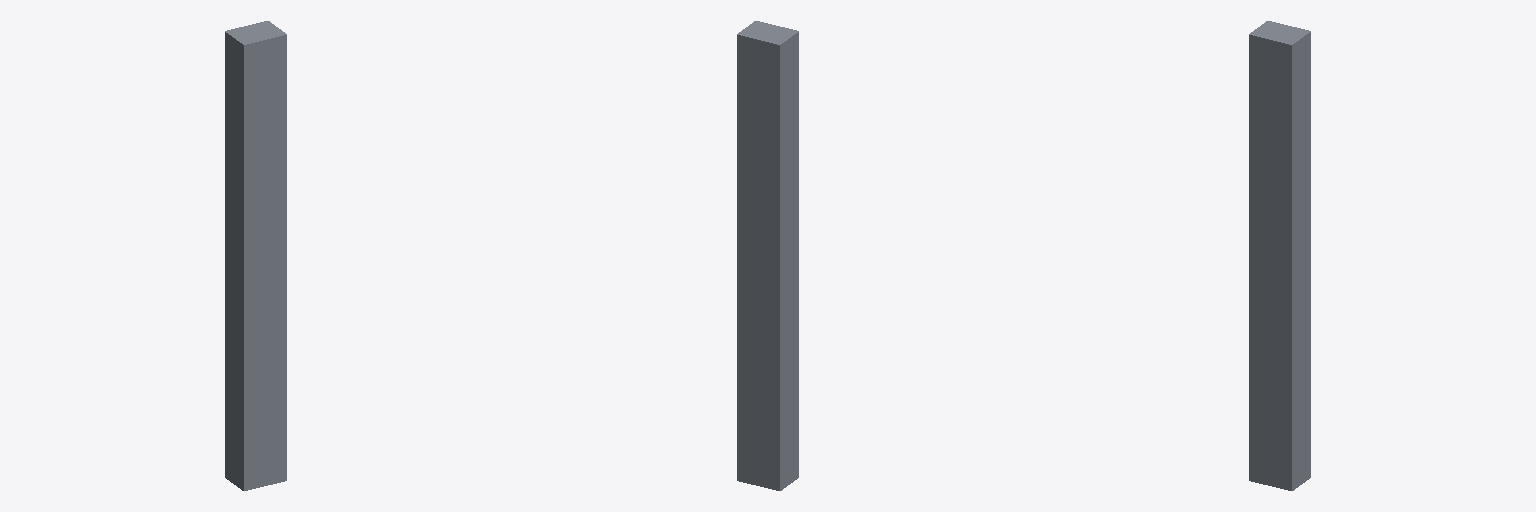
The robot description file, URDF, robot "artmanip_knife_000":
<?xml version='1.0' encoding='utf-8'?>
<robot name="artmanip_knife_000"><link name="link_0"><inertial><mass value="0.02306973070704749" /><inertia ixx="3.6460163445977564e-05" iyy="3.6619093913036727e-05" izz="5.989115058261133e-07" ixy="0" ixz="0" iyz="0" /></inertial><visual><geometry><box size="0.01403924296706232 0.0106972302318582 0.137298088580125" /></geometry><material name="link_0_color"><color rgba=".58 .60 .64 1" /></material></visual><collision><geometry><box size="0.01403924296706232 0.0106972302318582 0.137298088580125" /></geometry></collision></link><link name="link_1"><inertial><mass value="0.006" /><inertia ixx="4.545e-07" iyy="5e-07" izz="5.45e-08" ixy="0" ixz="0" iyz="0" /></inertial><visual><geometry><mesh filename="slider-shoulder.obj" /></geometry><material name="link_1_color"><color rgba=".12 .13 .15 1" /></material></visual><collision><geometry><mesh filename="slider-shoulder.obj" /></geometry></collision></link><joint name="slider" type="prismatic"><parent link="link_0" /><child link="link_1" /><origin xyz="0.0002074073525401292 0.007824161736828619 0.014206438021616731" /><axis xyz="0 0 1" /><limit lower="-0.03267458688196273" upper="0.017325413118037272" effort="100" velocity="1" /><dynamics damping="1000" friction="0.001" /></joint></robot>

--- What the picture shows (computed from the rendered views, not written in the file) ---
3 views of the same robot in one strip: view 1: azimuth 30°, elevation 25°; view 2: azimuth 150°, elevation 25°; view 3: azimuth 330°, elevation 25° (orthographic).
Robot: artmanip_knife_000 — 2 links, 1 joints (1 prismatic); root link link_0; default pose: every joint at zero.
Visible links, largest first — view 1: link_0; view 2: link_0; view 3: link_0.
Boxes of the visible links, x1,y1,x2,y2 form: link_0: (225, 21, 286, 490); link_0: (737, 21, 798, 490); link_0: (1249, 21, 1310, 490).
Size in the robot's own frame: 0.014 by 0.0107 by 0.1373 metres.
0 mesh visuals loaded from 1 distinct referenced files (none loaded); not drawn: 1 (reference not matched to a file when rendering).
